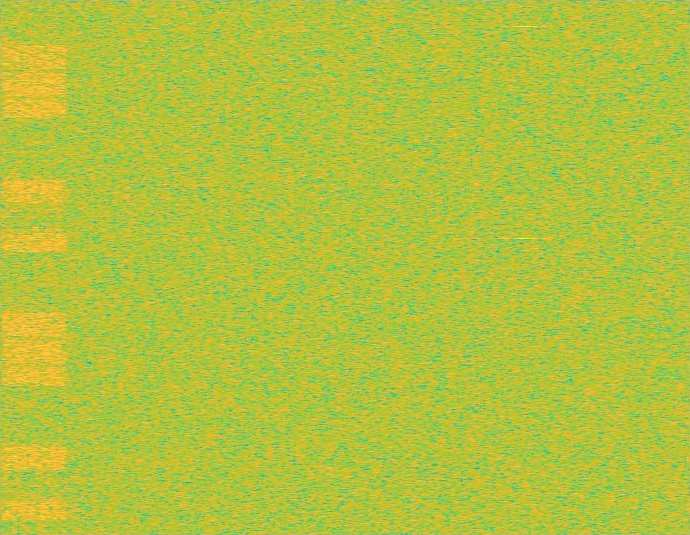LTE: (0, 0, 69, 534)
Radar: (519, 0, 533, 534)
